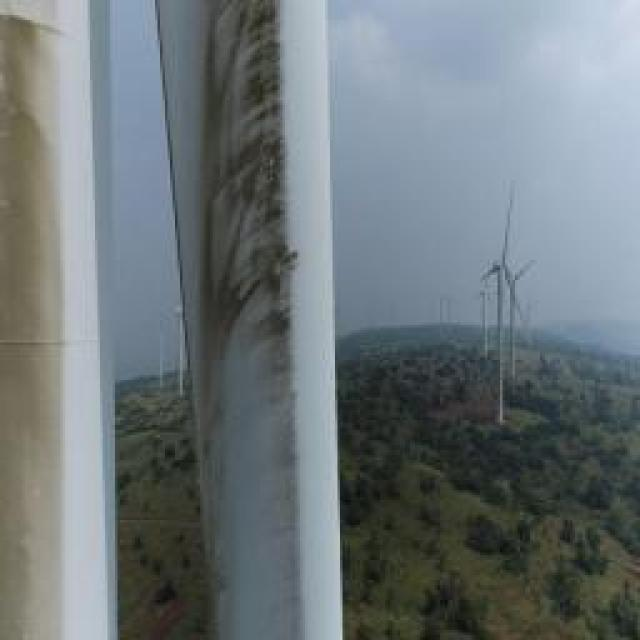Dirt: (153, 0, 311, 638), (0, 0, 68, 635)
